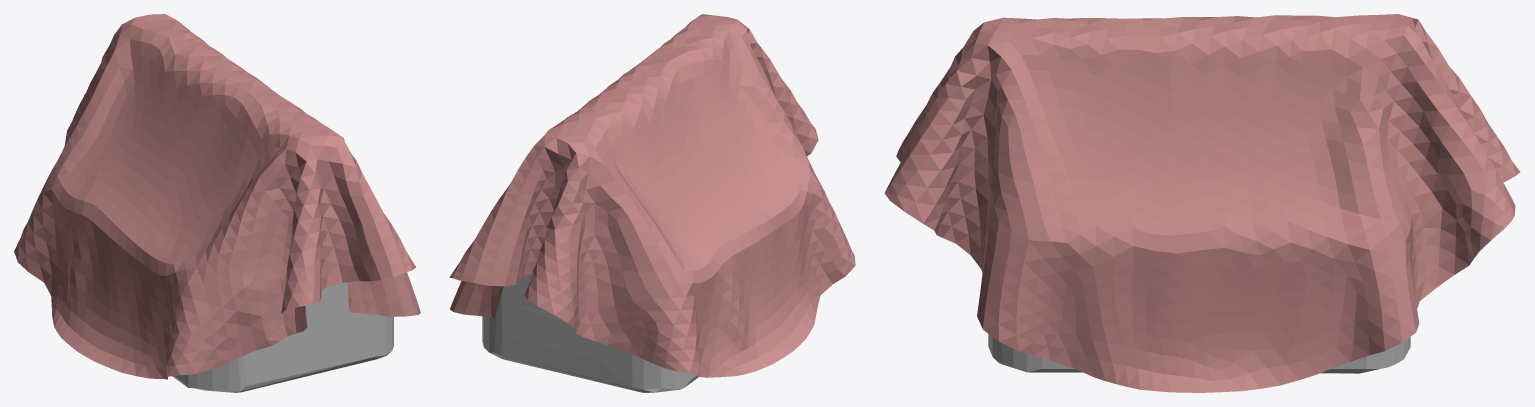
File: level_1.glb
3 renders of one model, left to right at view 1: azimuth 30°, elevation 25°; view 2: azimuth 150°, elevation 25°; view 3: azimuth 270°, elevation 25°, orthographic. The views are drawn at different scales.
Visible parts, largest first — view 1: world, object.obj; view 2: world, object.obj; view 3: world, object.obj.
Part boxes in pixels (x1=…): world: x1=14, y1=14, x2=420, y2=379; object.obj: x1=172, y1=282, x2=393, y2=392; world: x1=449, y1=14, x2=855, y2=377; object.obj: x1=482, y1=273, x2=698, y2=392; world: x1=884, y1=14, x2=1520, y2=392; object.obj: x1=988, y1=334, x2=1410, y2=373.
Bounding box in the file's own units: 0.3029 × 0.252 × 0.4888.
